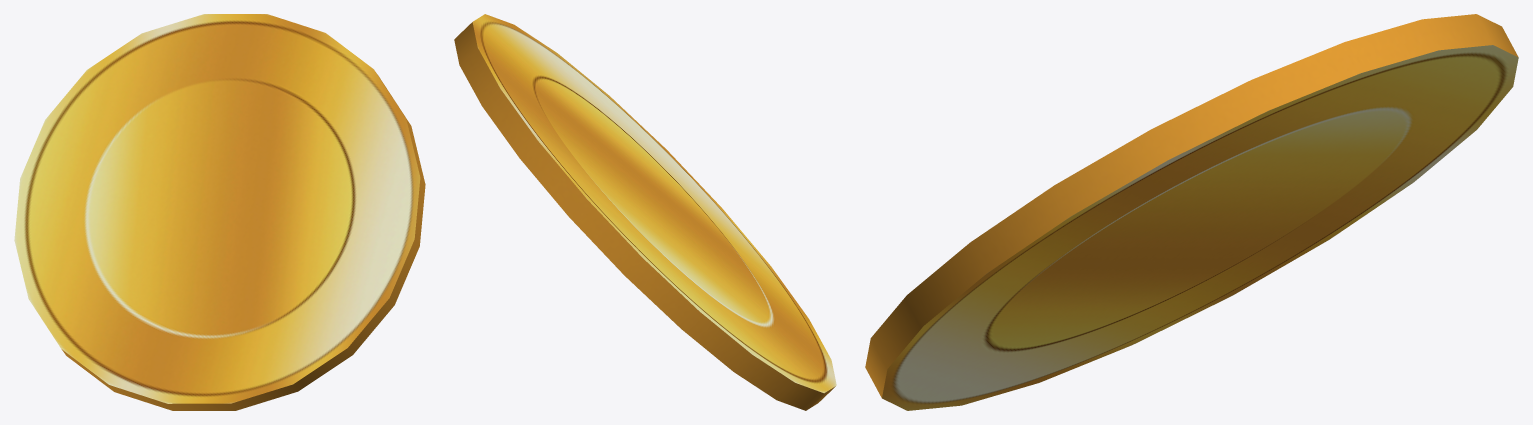
Rendered from Coin_1.fbx.
3 views of the same model, side by side, from view 1: azimuth 30°, elevation 25°; view 2: azimuth 150°, elevation 25°; view 3: azimuth 270°, elevation 25° (orthographic). The views are drawn at different scales.
Parts seen in each view (by area): view 1: Coins__1; view 2: Coins__1; view 3: Coins__1.
Part boxes in pixels (x1=…): Coins__1: x1=14, y1=14, x2=425, y2=410; Coins__1: x1=454, y1=14, x2=836, y2=410; Coins__1: x1=865, y1=14, x2=1518, y2=410.
Bounding box in the file's own units: 2.06 × 1.81 × 2.17.
1 material, 1 textured.
